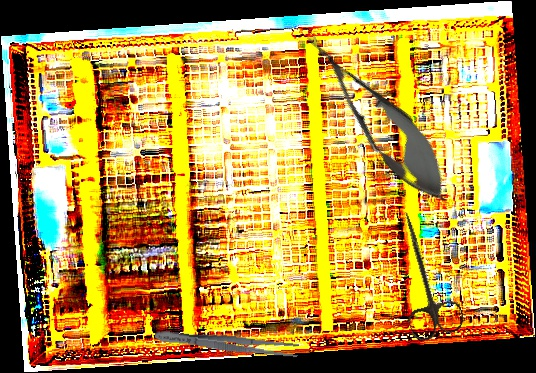Dressing Forceps: (153, 326, 300, 360)
Iris Scissors: (378, 206, 467, 344)
Micro Scissor: (286, 16, 468, 218)
